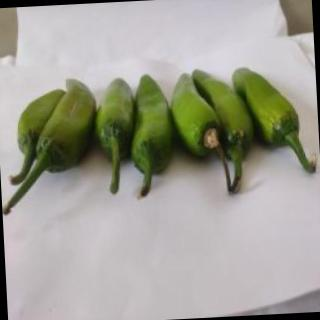Cabai Hijau: (1, 75, 104, 230), (168, 71, 232, 202), (127, 71, 176, 202)
